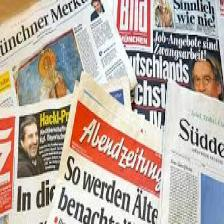paper: (46, 74, 169, 222), (2, 5, 136, 99), (110, 0, 224, 100), (150, 72, 224, 224), (1, 88, 65, 216)
